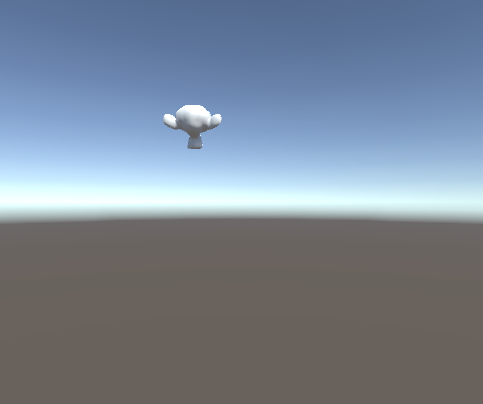monkey: (161, 102, 223, 152)
